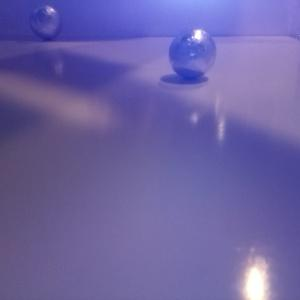alive_ball: (168, 29, 217, 78), (29, 3, 60, 39)
